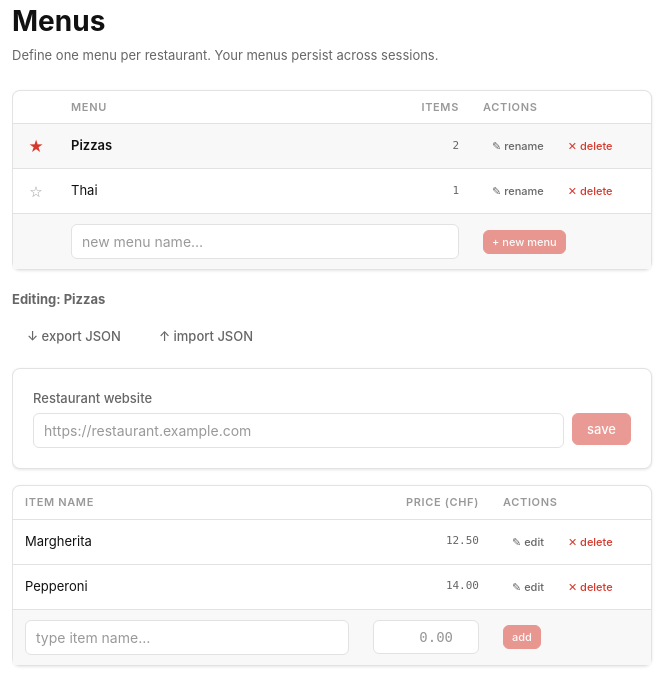
Test case: Menus › menu list › clicking another menu loads its items
Click the text "Thai".
click(84, 190)  # box top-left (71, 182), bottom-right (98, 198)
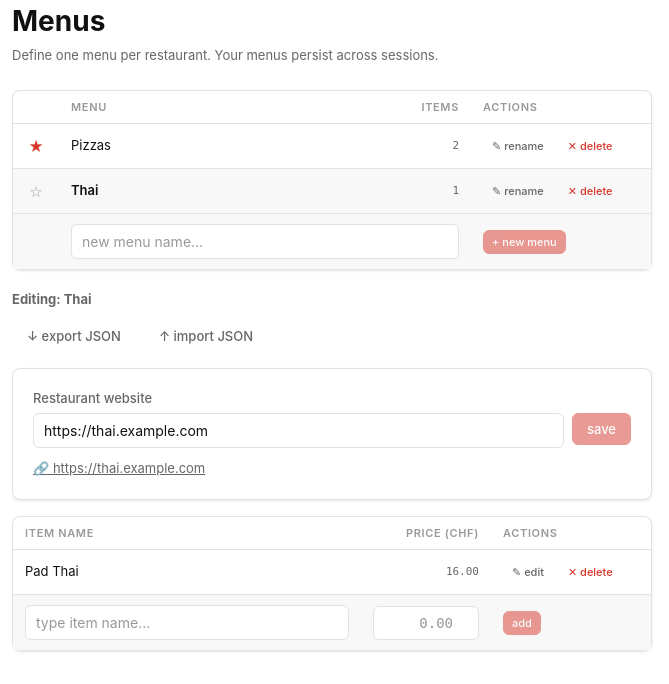
Now the text "Pad Thai" is shown, box top-left (13, 550), bottom-right (361, 594)
